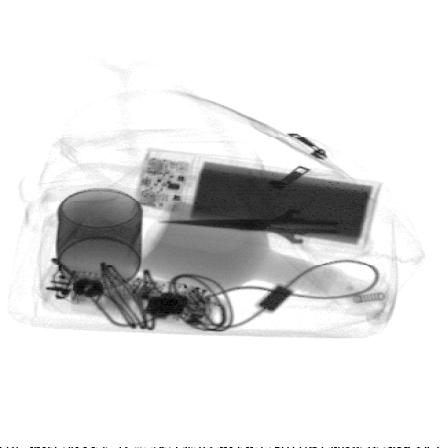Powerbank: (137, 146, 385, 254)
Scissors: (150, 197, 381, 259)
